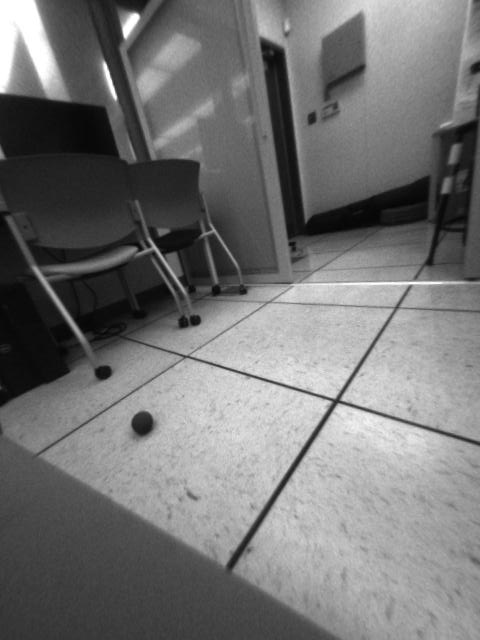dogtoy: (124, 406, 161, 438)
